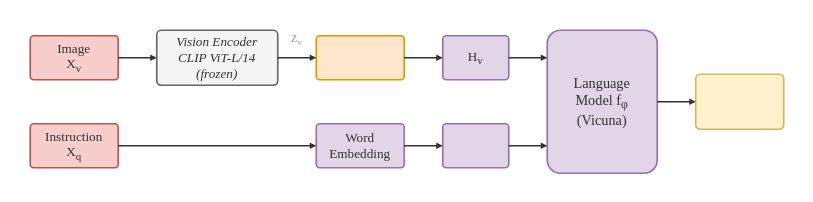
The diagram is 813 pixels wide and 202 high, and some of its shapes have lost their labels. The centre of each missing label's shape, as x and y in pixels:
"H q" goes at (x=475, y=145).
"Language Response X a" goes at (x=739, y=101).
"Projection W" goes at (x=360, y=57).
